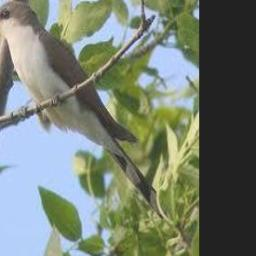Cuckoo: (0, 1, 168, 221)
